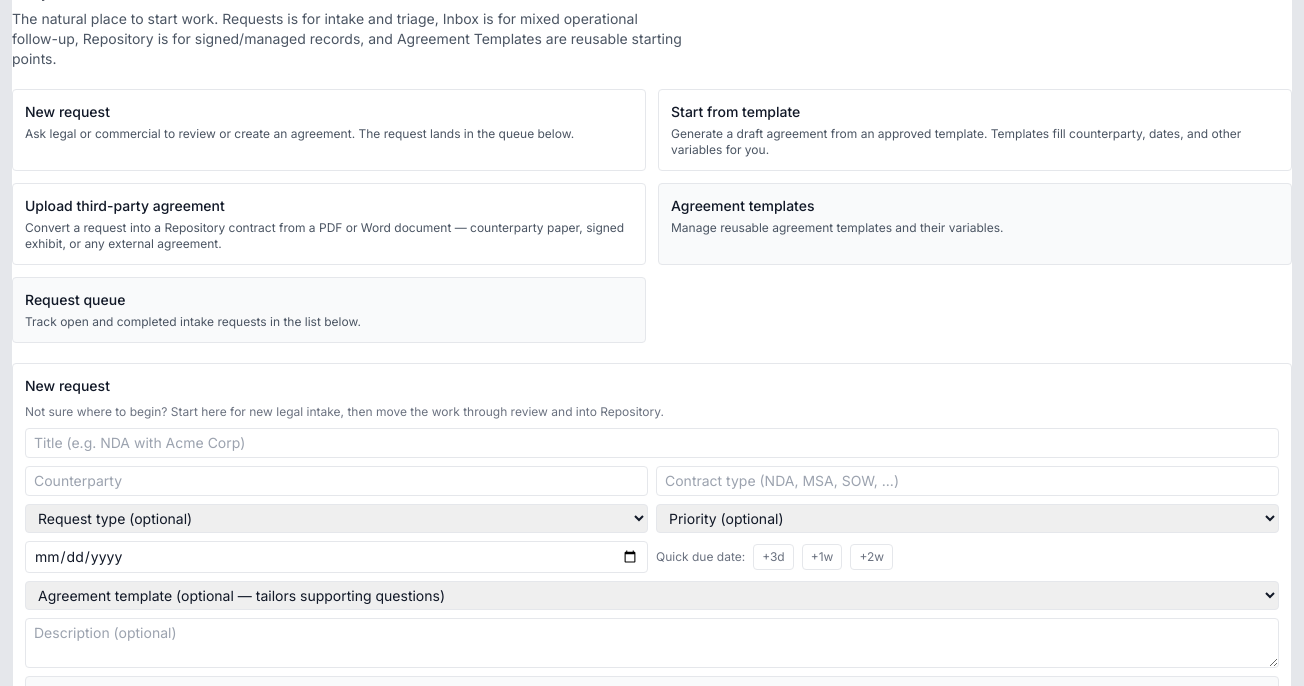
it: RequestsPage › switches the supporting-question set when an NDA template is selected (even with no request_type)
Select "Mutual NDA template" in the dropdown with test id "requests-create-template" at (652, 596), box [25,581,1279,610]
(page scrolled)
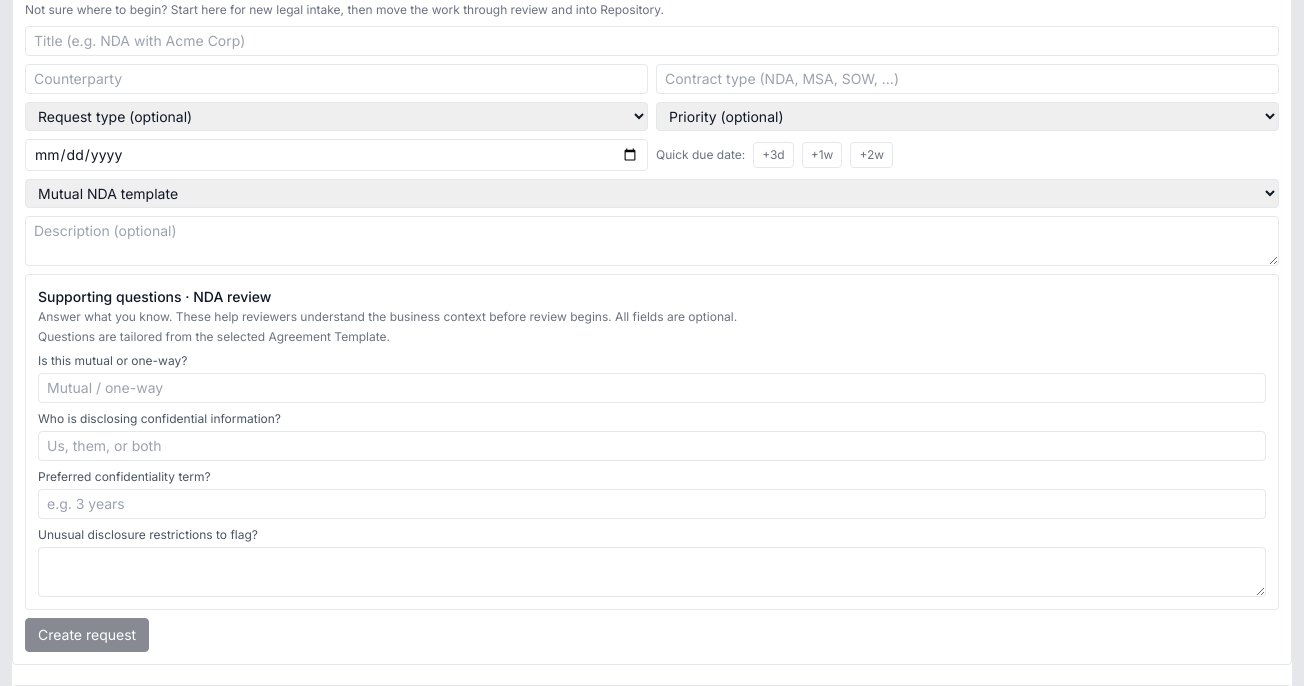
Expected: the text with test id "requests-create-supporting-questions-hint" shows "tailored from the selected Agreement Template", [38,329,390,344]
